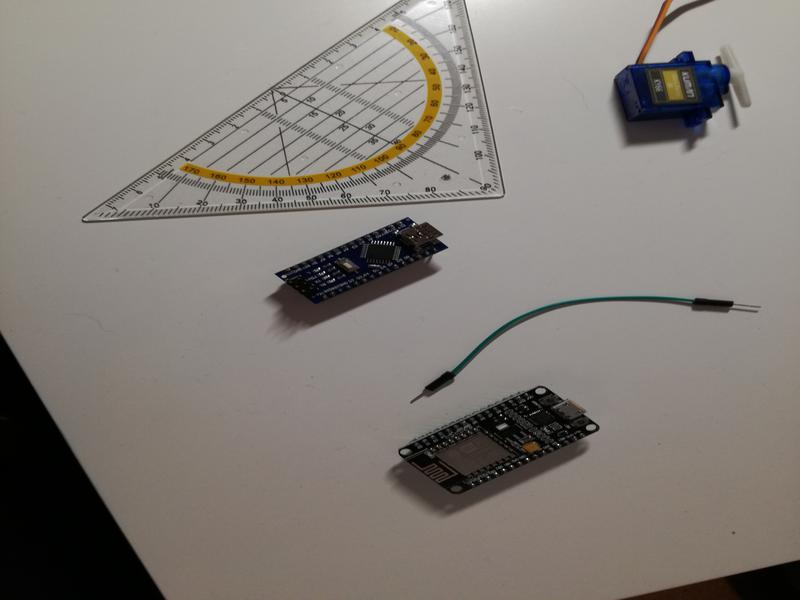Arduino_Nano: (275, 216, 452, 309)
ESP8266: (395, 383, 602, 497)
